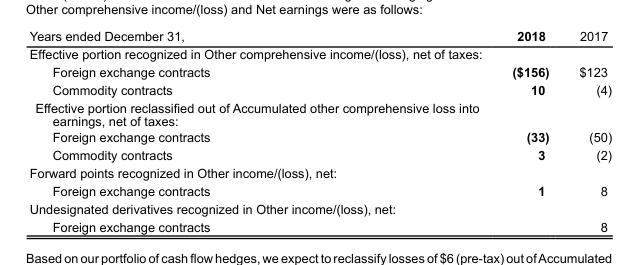table: (28, 28, 611, 233)
table column: (28, 28, 360, 233), (360, 28, 563, 233), (563, 28, 611, 233)
table column header: (28, 28, 611, 44)
table projected row header: (28, 98, 611, 128), (28, 44, 611, 62), (28, 163, 611, 181), (28, 199, 611, 217)
table row: (28, 98, 611, 128), (28, 44, 611, 62), (28, 62, 611, 80), (28, 80, 611, 98), (28, 128, 611, 146), (28, 163, 611, 181), (28, 181, 611, 199), (28, 199, 611, 217), (28, 146, 611, 163), (28, 28, 611, 44), (28, 217, 611, 233)
